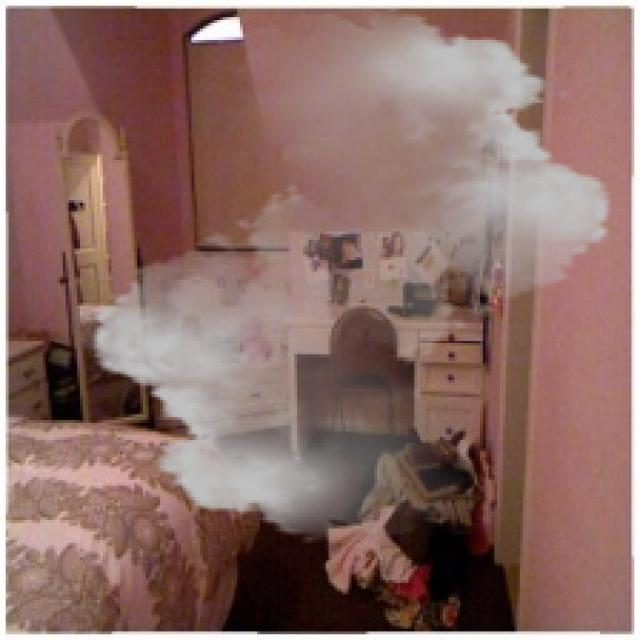smoke: (74, 6, 629, 543)
